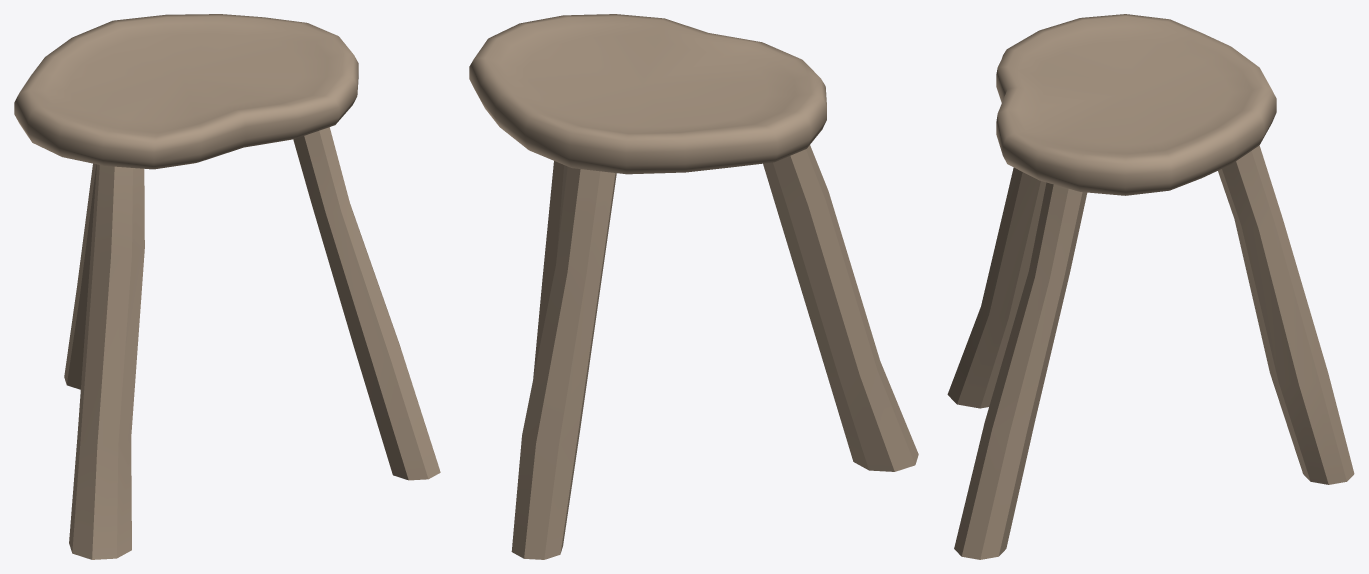
The model's file is tav_stool.fbx.
The picture shows the model from 3 angles, left to right: view 1: azimuth 30°, elevation 25°; view 2: azimuth 150°, elevation 25°; view 3: azimuth 270°, elevation 25°; orthographic projection. The views are drawn at different scales.
Parts seen in each view (by area): view 1: stool; view 2: stool; view 3: stool.
Boxes of the visible parts, x1,y1,x2,y2 form: stool: [14, 14, 440, 559]; stool: [469, 14, 918, 559]; stool: [947, 14, 1354, 559].
Bounding box in the file's own units: 58.07 × 58.21 × 55.78.
